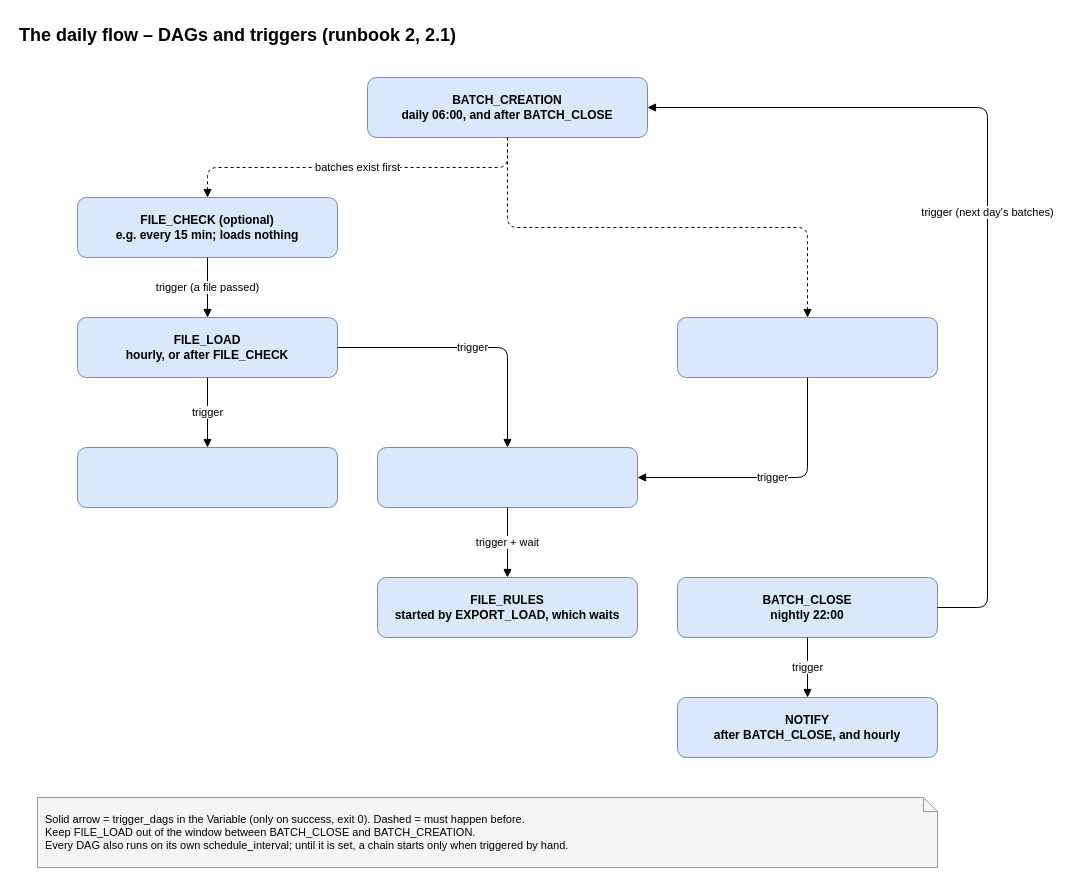
Some shapes in this 1070 by 885 pixel diagram are drawn without their labels. The centre of each missing label's shape, as x and y in pixels:
EXPORT_LOAD after the loads, and 20:00: the point at 507,477
OVERRIDE_DECISIONS after FILE_LOAD (or scheduled): the point at 207,477
SOURCE_LOAD e.g. 06:30: the point at 807,347
